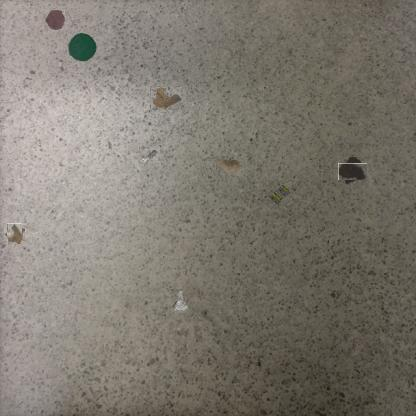dirty: (68, 31, 100, 63), (150, 86, 182, 110), (268, 181, 292, 205), (216, 156, 244, 176), (172, 289, 192, 313), (138, 146, 160, 164), (5, 224, 24, 243)
liquid: (341, 160, 364, 183), (43, 8, 65, 30)
